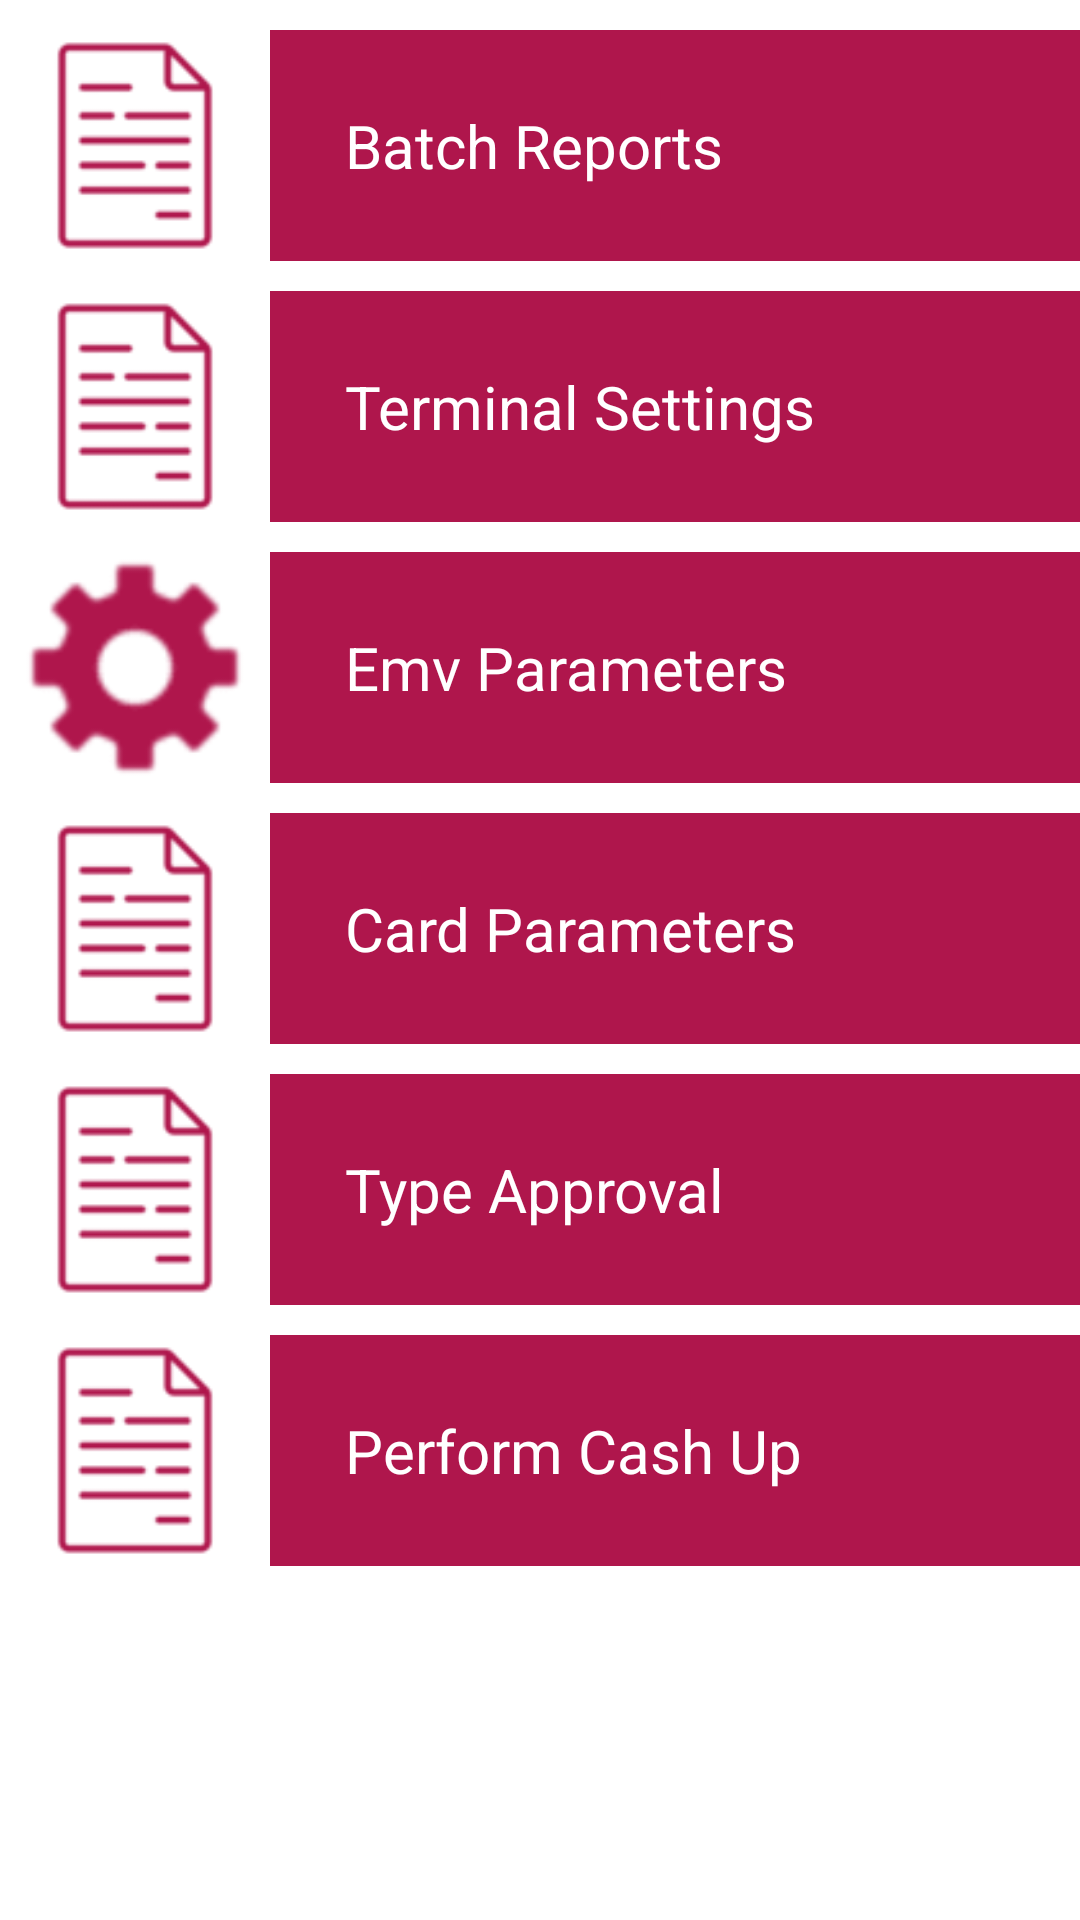

Icon click points for this 1080px×1920px phone screenshot, format point (x, y):
file: point (135, 145), point (135, 406), point (135, 928), point (135, 1189), point (135, 1450)
